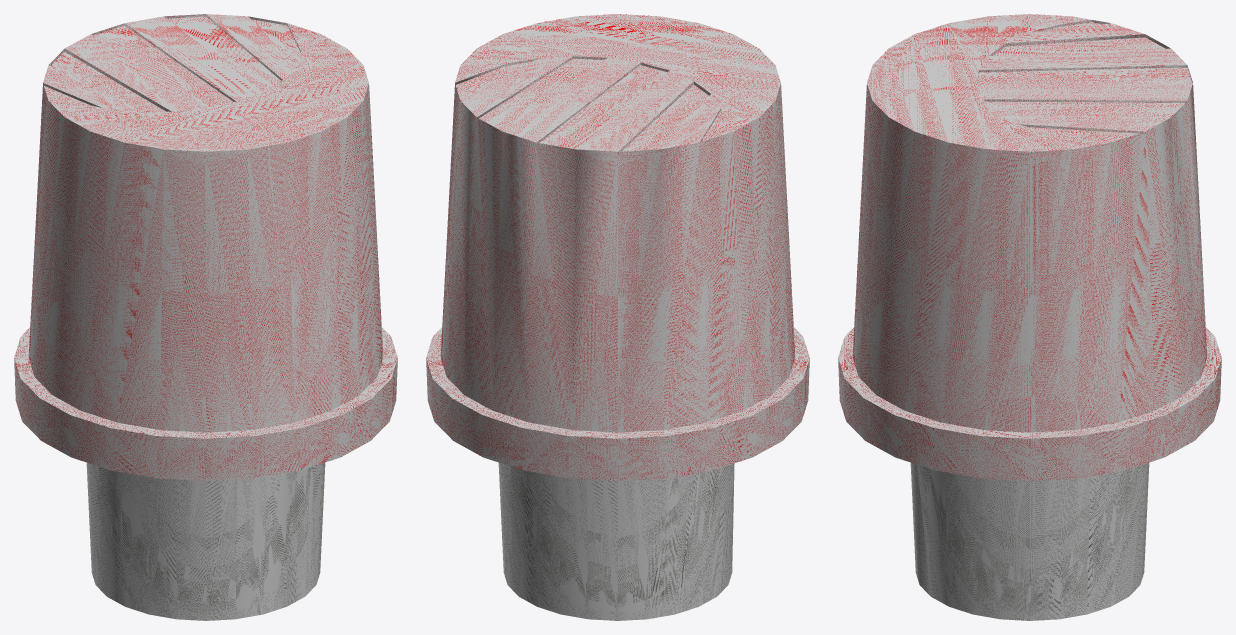
The model's file is original-2.obj.
The picture shows the model from 3 angles, left to right: view 1: azimuth 30°, elevation 25°; view 2: azimuth 150°, elevation 25°; view 3: azimuth 270°, elevation 25°; orthographic projection.
Visible parts, largest first — view 1: mesh2/mesh2-geometry#mesh2-geometry; view 2: mesh2/mesh2-geometry#mesh2-geometry; view 3: mesh2/mesh2-geometry#mesh2-geometry.
Boxes of the visible parts, bbox=[...] form: mesh2/mesh2-geometry#mesh2-geometry: bbox=[14, 14, 397, 620]; mesh2/mesh2-geometry#mesh2-geometry: bbox=[426, 14, 809, 620]; mesh2/mesh2-geometry#mesh2-geometry: bbox=[838, 14, 1221, 620].
Bounding box in the file's own units: 0.1974 × 0.278 × 0.1974.
Materials: 5 (1 with a texture image).
